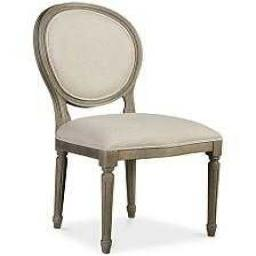Chair: (30, 1, 225, 251)
